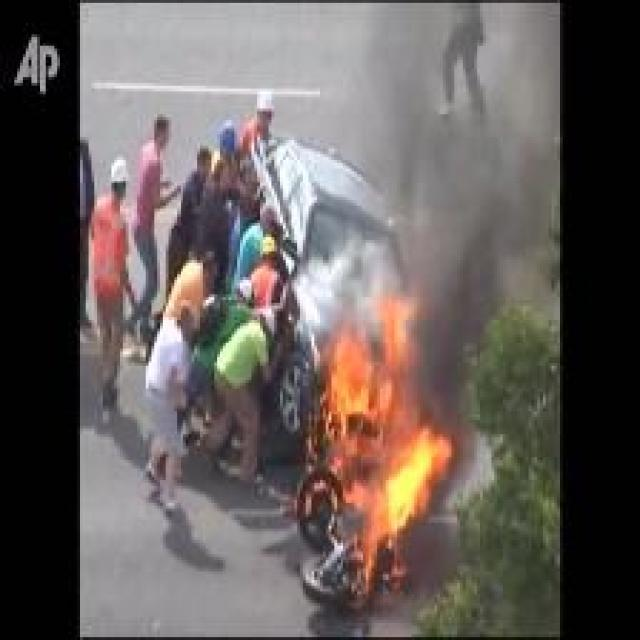Fire: (306, 290, 454, 590)
